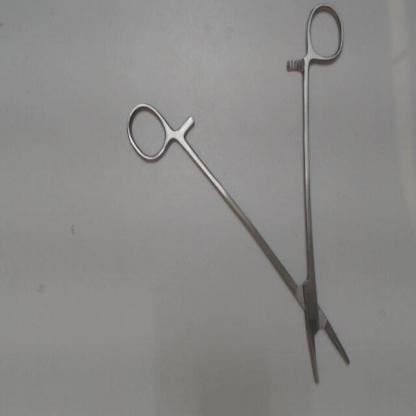8 Mayo Needle Holder: (118, 2, 362, 404)
